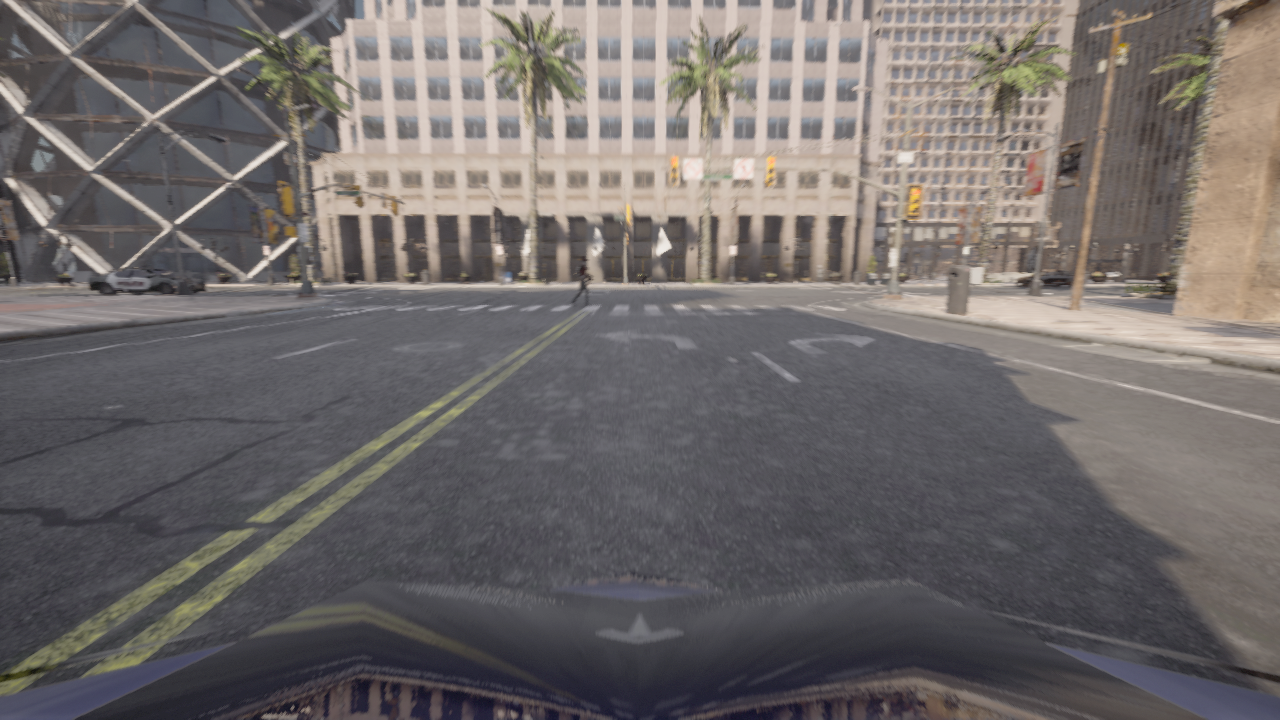cyclist: (0, 569, 1279, 719), (89, 267, 206, 295), (1015, 270, 1074, 287)
pedestrian: (571, 255, 592, 306)
